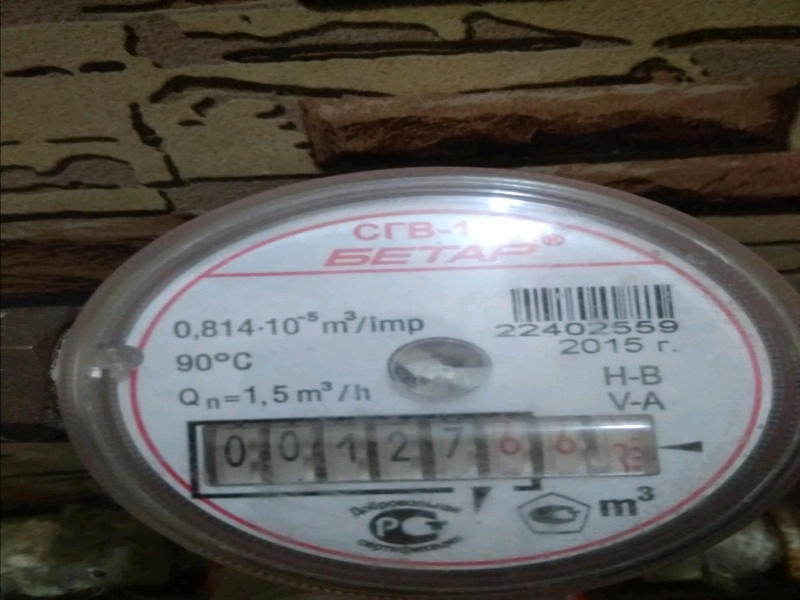meter: (204, 415, 677, 493)
